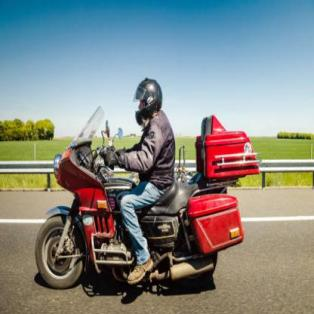Motocicleta: (36, 128, 230, 292)
